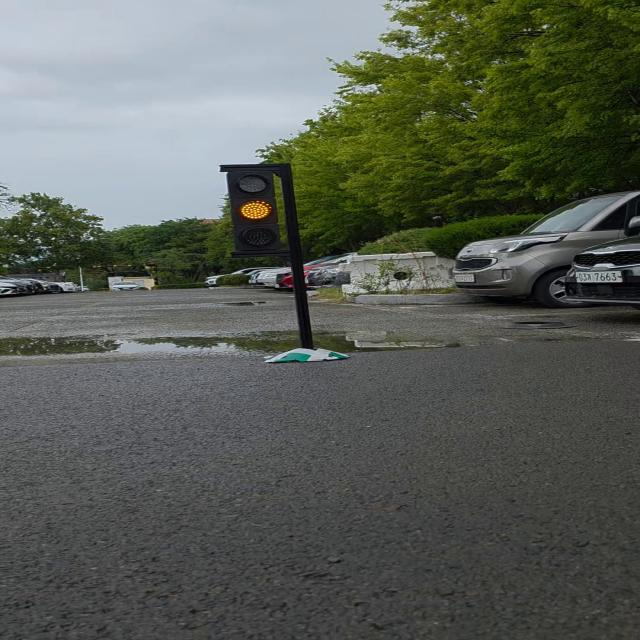yellow: (227, 168, 289, 255)
